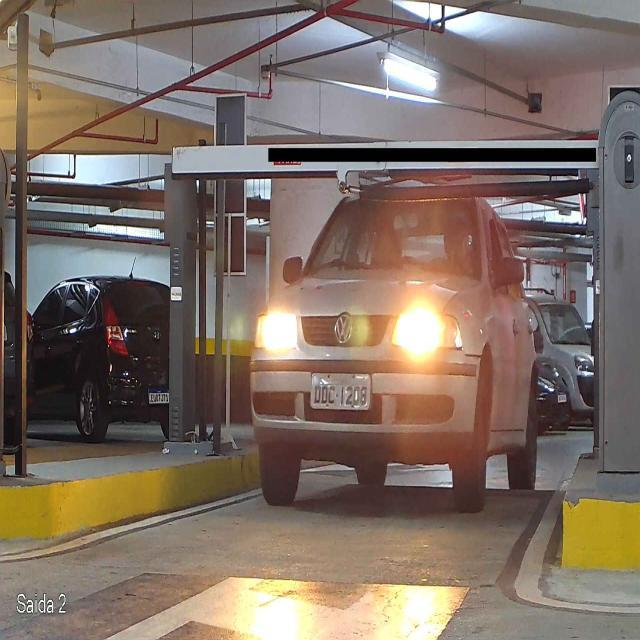old_plate: (310, 372, 373, 411)
